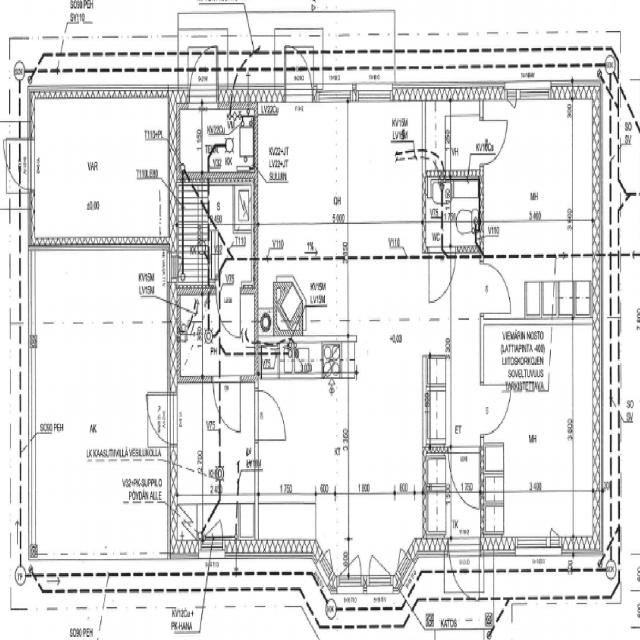door: (449, 536, 479, 610), (189, 33, 217, 109), (449, 446, 479, 508), (140, 395, 177, 445), (0, 139, 34, 190), (286, 37, 312, 99), (212, 376, 240, 433), (254, 390, 284, 440), (480, 384, 510, 434), (480, 264, 510, 313), (429, 246, 455, 302), (480, 119, 508, 164), (216, 288, 240, 339)
